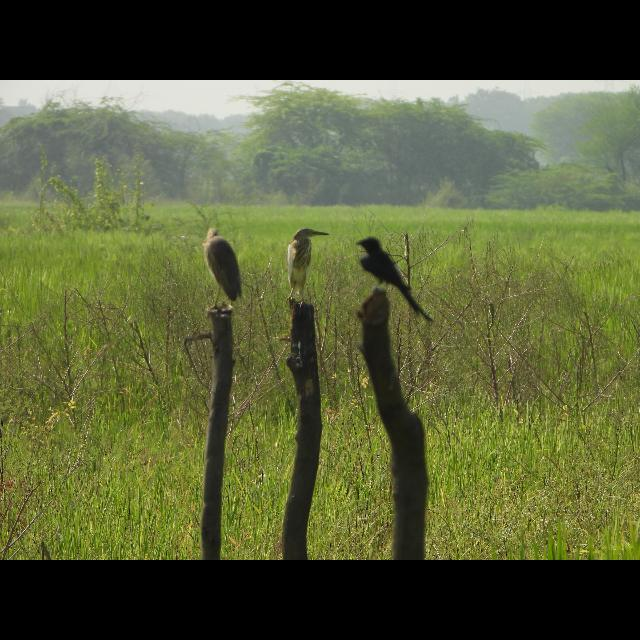heron: (199, 227, 247, 316), (284, 226, 332, 310)
